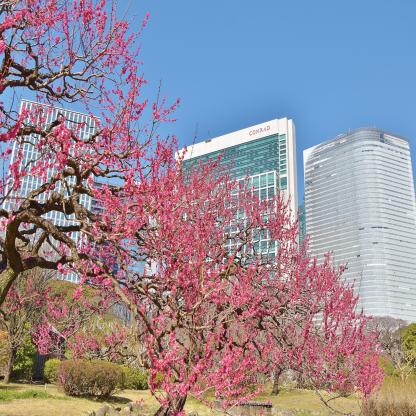Ume: (76, 121, 390, 416), (0, 0, 185, 297), (0, 270, 138, 392)
